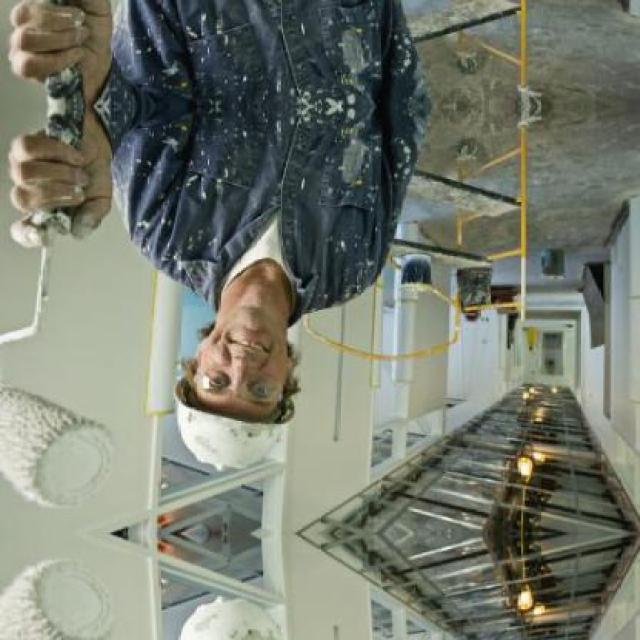safetyhelmet: (168, 349, 308, 471)
